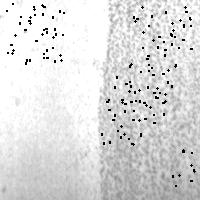pitted_surface: (95, 1, 200, 199), (101, 83, 159, 143), (133, 6, 190, 65), (6, 3, 63, 62), (116, 63, 171, 119), (172, 143, 200, 200)
